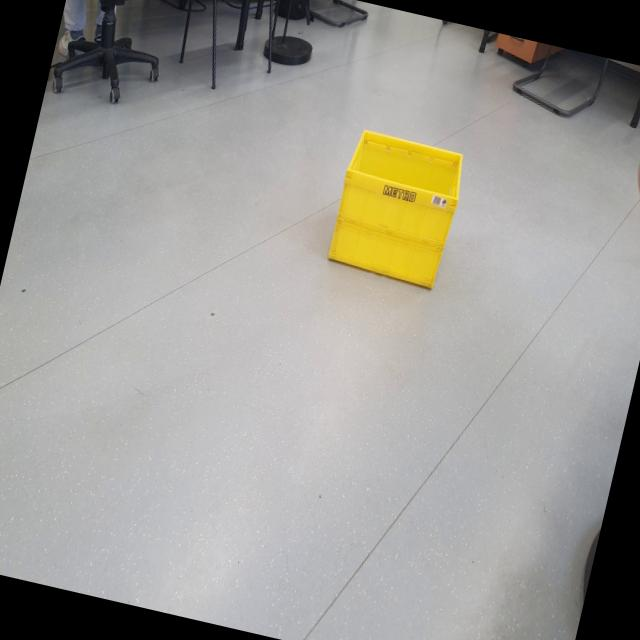box: (312, 110, 479, 307)
